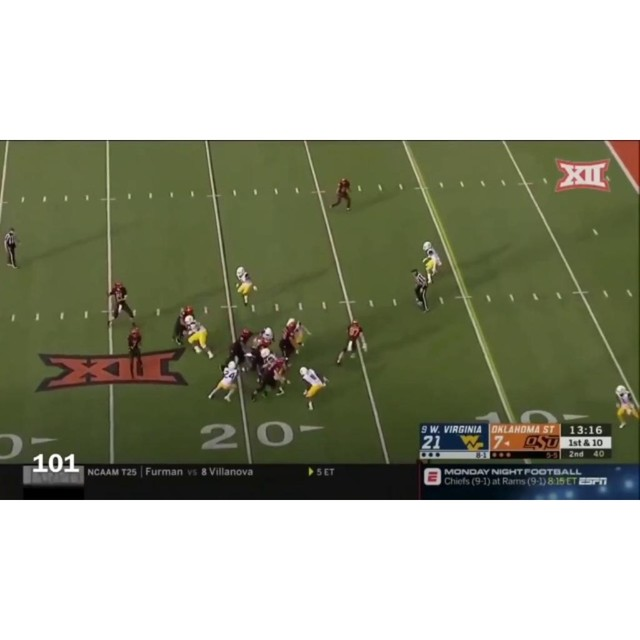american-football-player: (250, 357, 284, 403), (106, 279, 136, 329), (336, 319, 367, 365), (208, 360, 240, 402), (184, 315, 214, 359), (299, 366, 328, 411), (224, 327, 254, 369), (614, 384, 640, 428), (171, 305, 195, 348), (126, 323, 144, 374), (421, 241, 442, 284), (235, 266, 257, 307), (278, 320, 298, 364), (330, 178, 352, 210), (293, 319, 311, 354)
referee: (411, 268, 431, 313), (4, 228, 21, 268)
